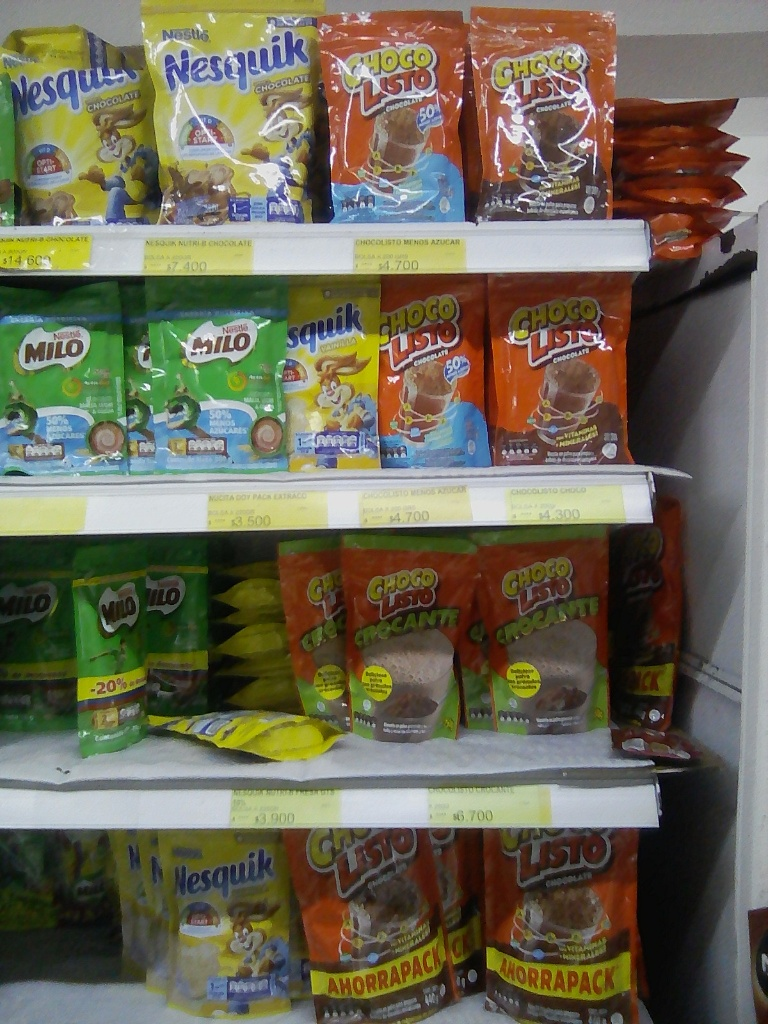COL0170102DYP25000: (342, 535, 479, 740)
COL0170103DYP44000: (283, 827, 467, 1024)
COL0170104DYP20000: (315, 12, 478, 222)
COL0170203DYP25000: (69, 550, 158, 780)
COL0170205DYP20000: (2, 289, 140, 471)
COL0170306DYP20000: (276, 276, 382, 473)
